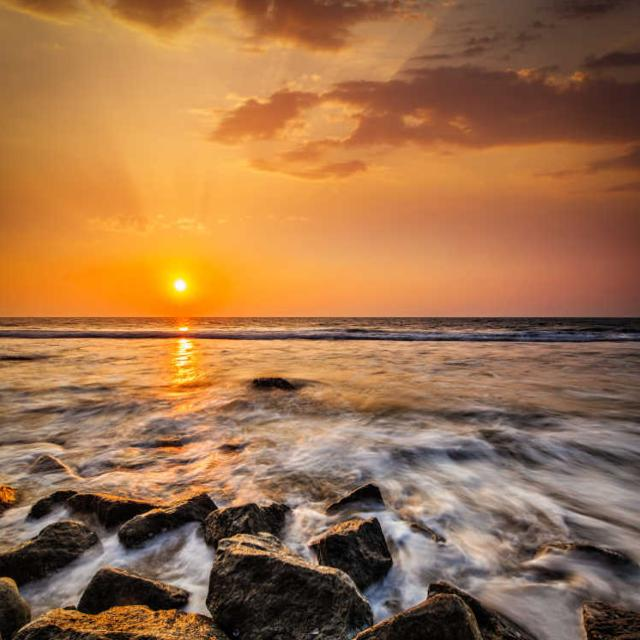reef: (108, 461, 390, 614)
